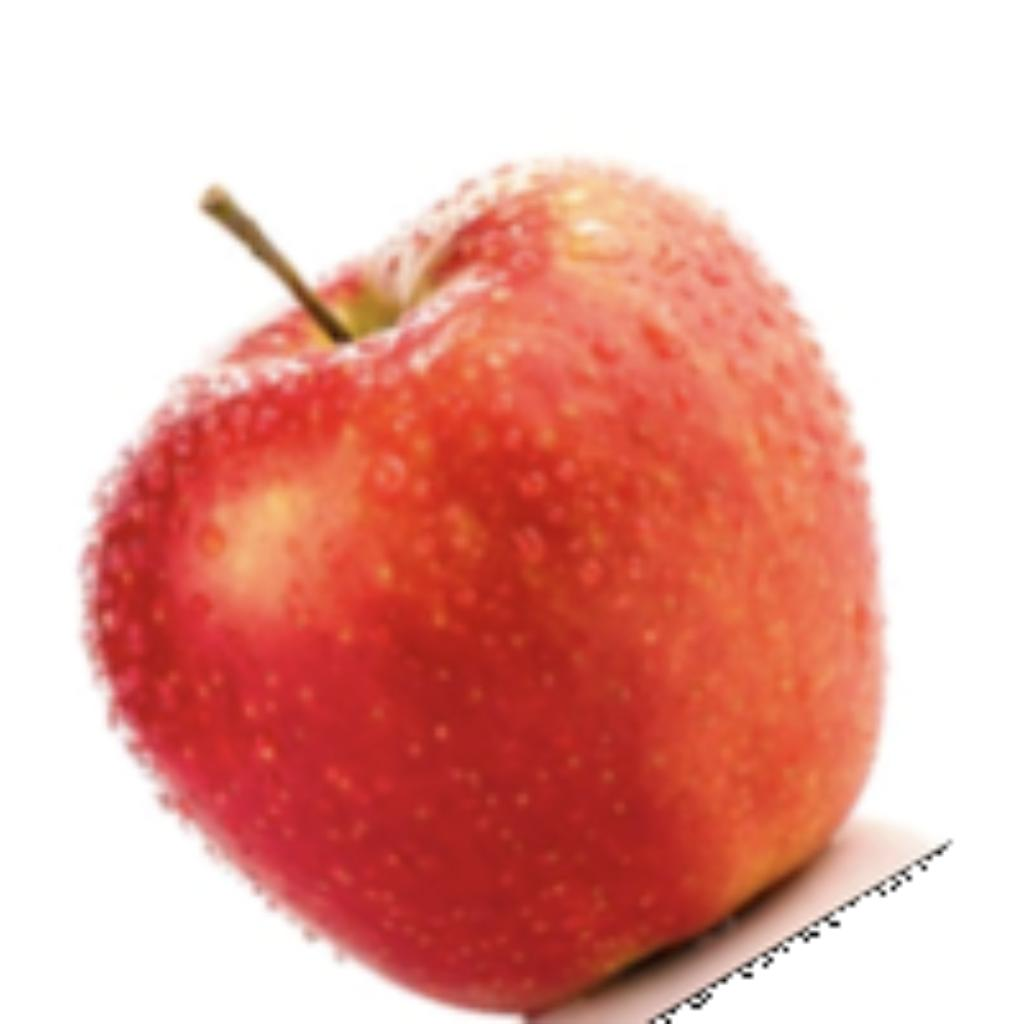apple: (67, 148, 952, 1019)
